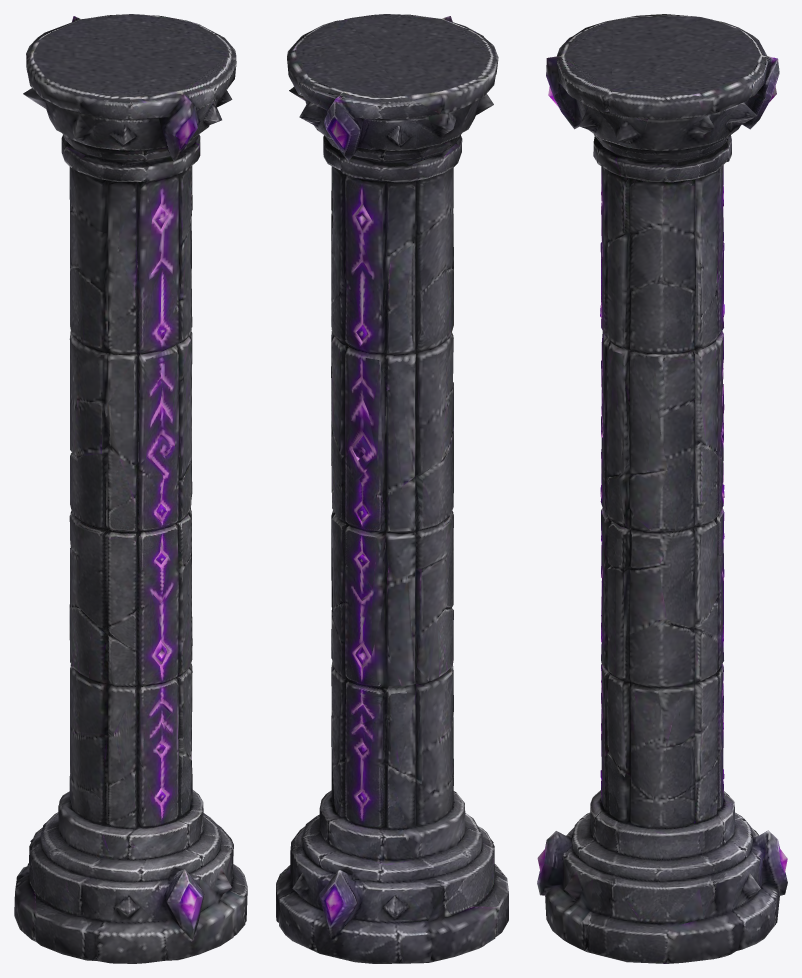
File: throne-pillar.glb
3 views of the same model, side by side, from view 1: azimuth 30°, elevation 25°; view 2: azimuth 150°, elevation 25°; view 3: azimuth 270°, elevation 25° (orthographic).
Visible parts, largest first — view 1: mesh_0; view 2: mesh_0; view 3: mesh_0.
Boxes of the visible parts, left/top/right/bottom form: mesh_0: left=14, top=14, right=247, bottom=963; mesh_0: left=276, top=14, right=508, bottom=963; mesh_0: left=537, top=14, right=787, bottom=963.
Bounding box in the file's own units: 0.4907 × 2 × 0.5277.
1 material, 1 textured.
